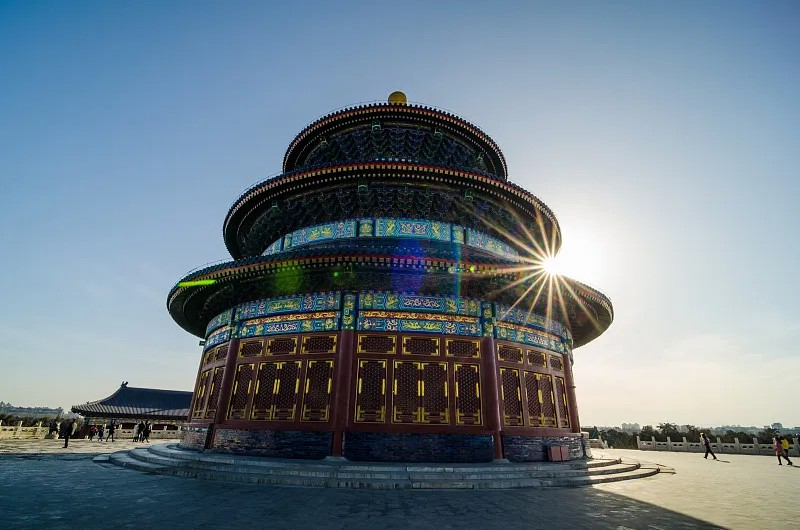Heaven: (167, 90, 614, 462)
